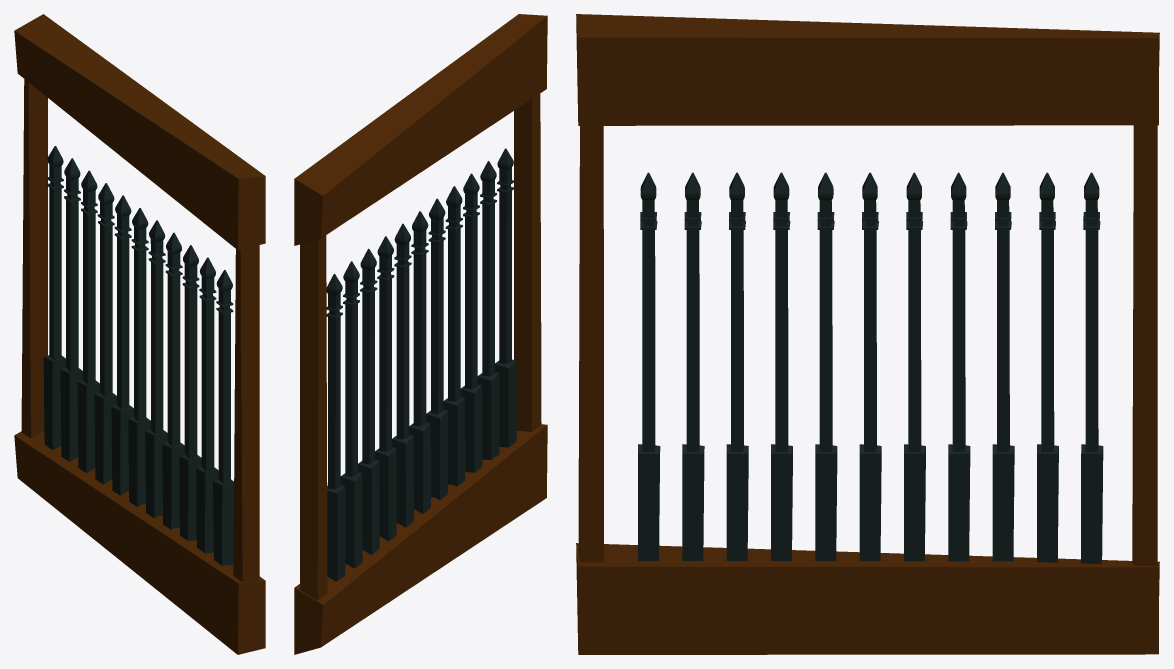
The model's file is Gate.fbx.
3 views of the same model, side by side, from view 1: azimuth 30°, elevation 25°; view 2: azimuth 150°, elevation 25°; view 3: azimuth 270°, elevation 25° (orthographic). The views are drawn at different scales.
Parts seen in each view (by area): view 1: Plane.051, Cube.054, Cube.053, Cube.055, Cube.056; view 2: Plane.051, Cube.054, Cube.053, Cube.056, Cube.055; view 3: Plane.051, Cube.054, Cube.053, Cube.056, Cube.055.
Boxes of the visible parts, x1,y1,x2,y2 form: Plane.051: (43, 146, 233, 565); Cube.054: (14, 14, 265, 250); Cube.053: (14, 431, 265, 654); Cube.055: (233, 245, 259, 582); Cube.056: (21, 79, 47, 438); Plane.051: (326, 148, 516, 581); Cube.054: (294, 14, 547, 245); Cube.053: (294, 424, 547, 654); Cube.056: (300, 235, 327, 600); Cube.055: (514, 94, 541, 431); Plane.051: (638, 172, 1103, 564); Cube.054: (576, 14, 1159, 125); Cube.053: (576, 543, 1159, 654); Cube.056: (1132, 125, 1157, 566); Cube.055: (578, 126, 603, 562).
Bounding box in the file's own units: 15.16 × 238 × 202.
